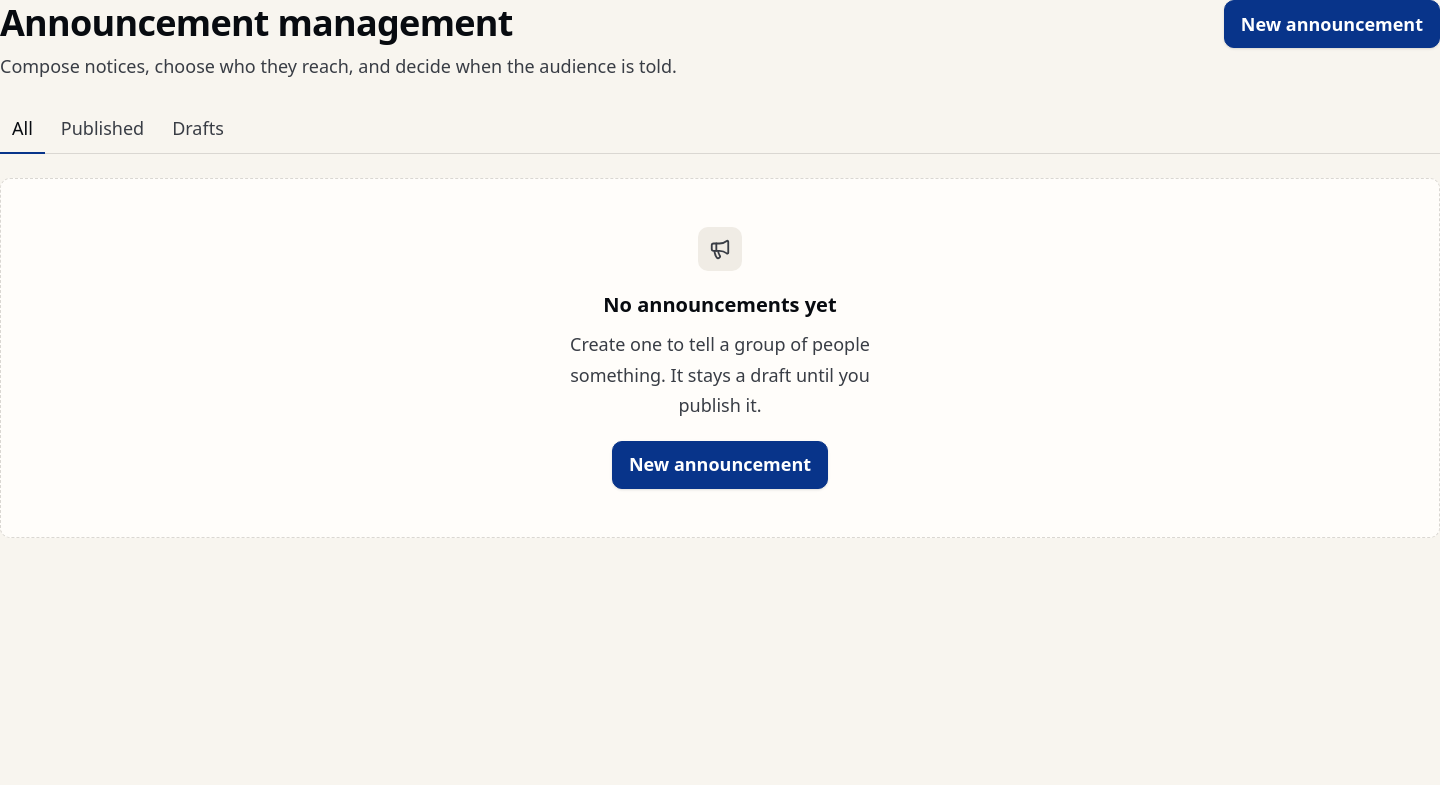
Test case: AnnouncementManagementPage — Publish from the form › keeps the form open with the reason when the save itself is refused
Click the button "New announcement" in the row of "Announcement management" at (1332, 24), box [1224, 0, 1439, 48]
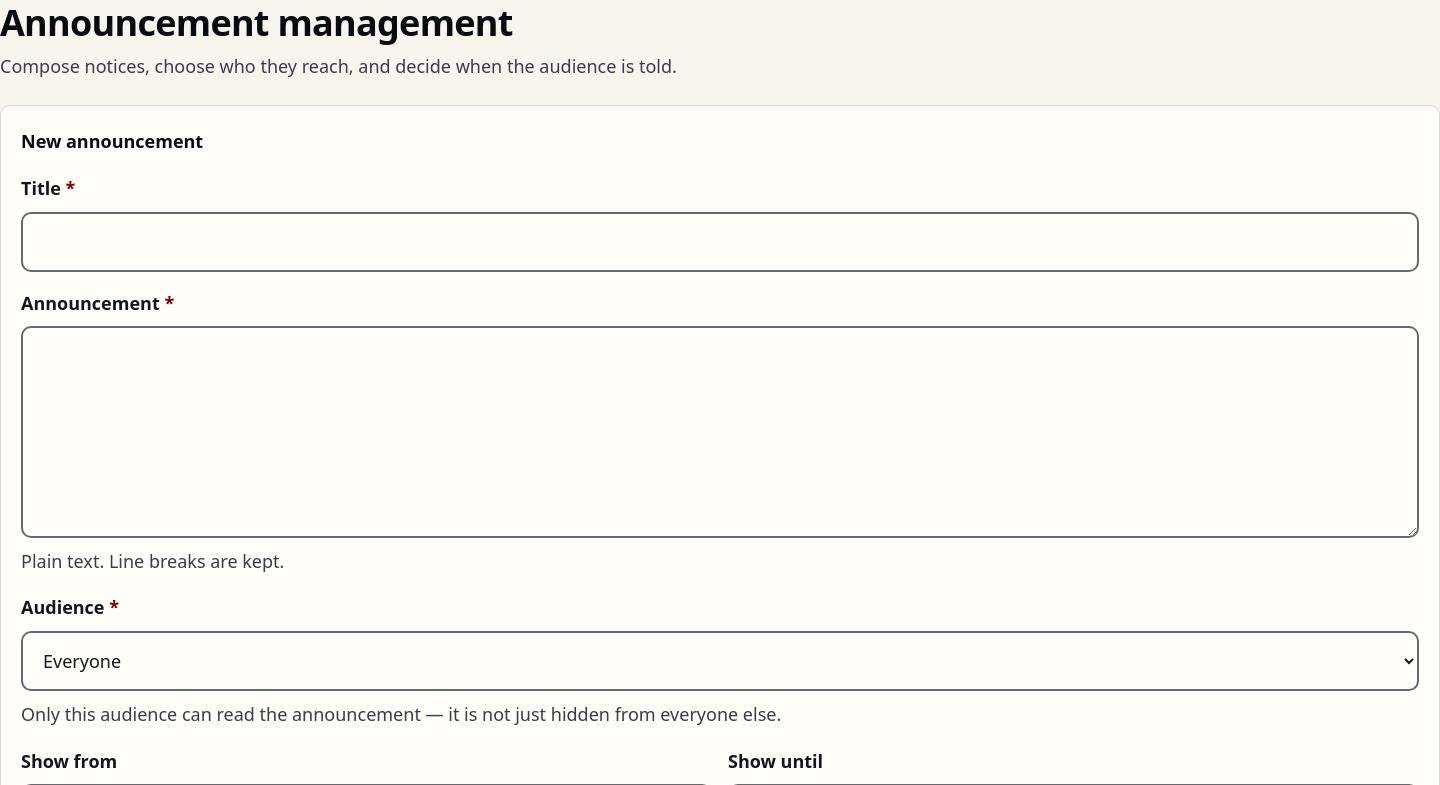
Type "Lab closed" into the field labelled "Title *" at (720, 242), box [21, 212, 1419, 272]
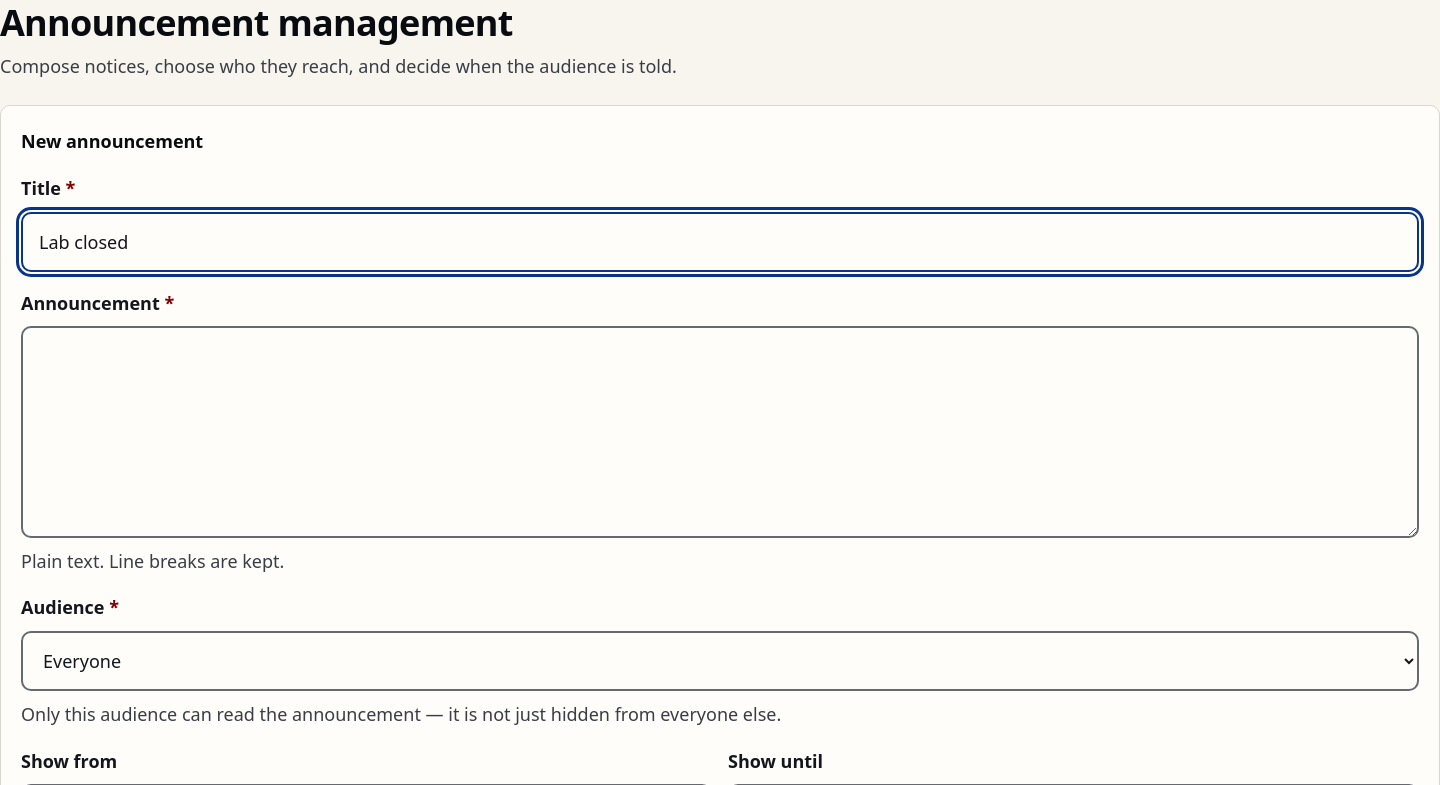
Type "Lab 2 is closed today." into the text box labelled "Announcement *" at (720, 432), box [21, 326, 1419, 538]
(page scrolled)
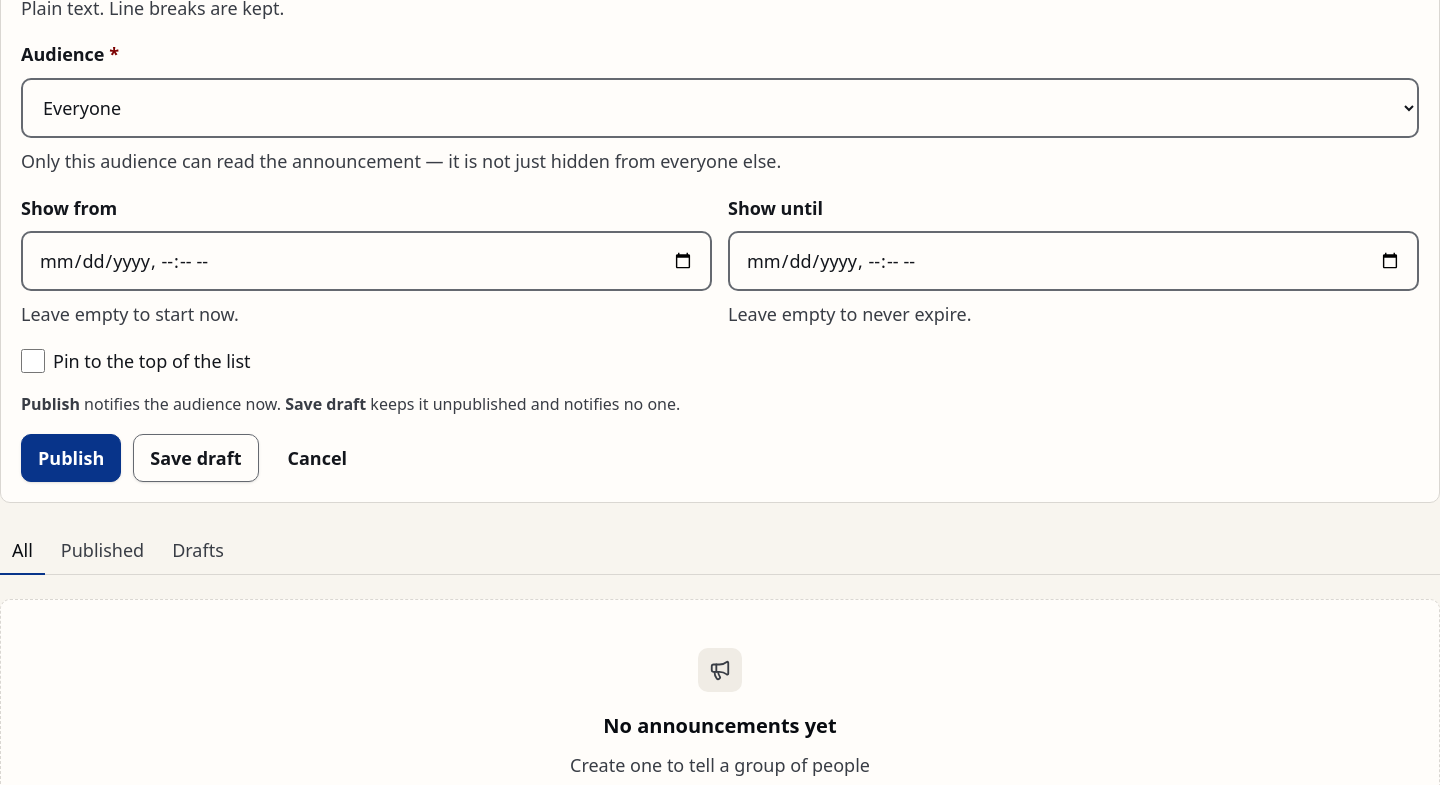
Click the button "Publish" at (71, 458), box [21, 434, 121, 482]
(page scrolled)
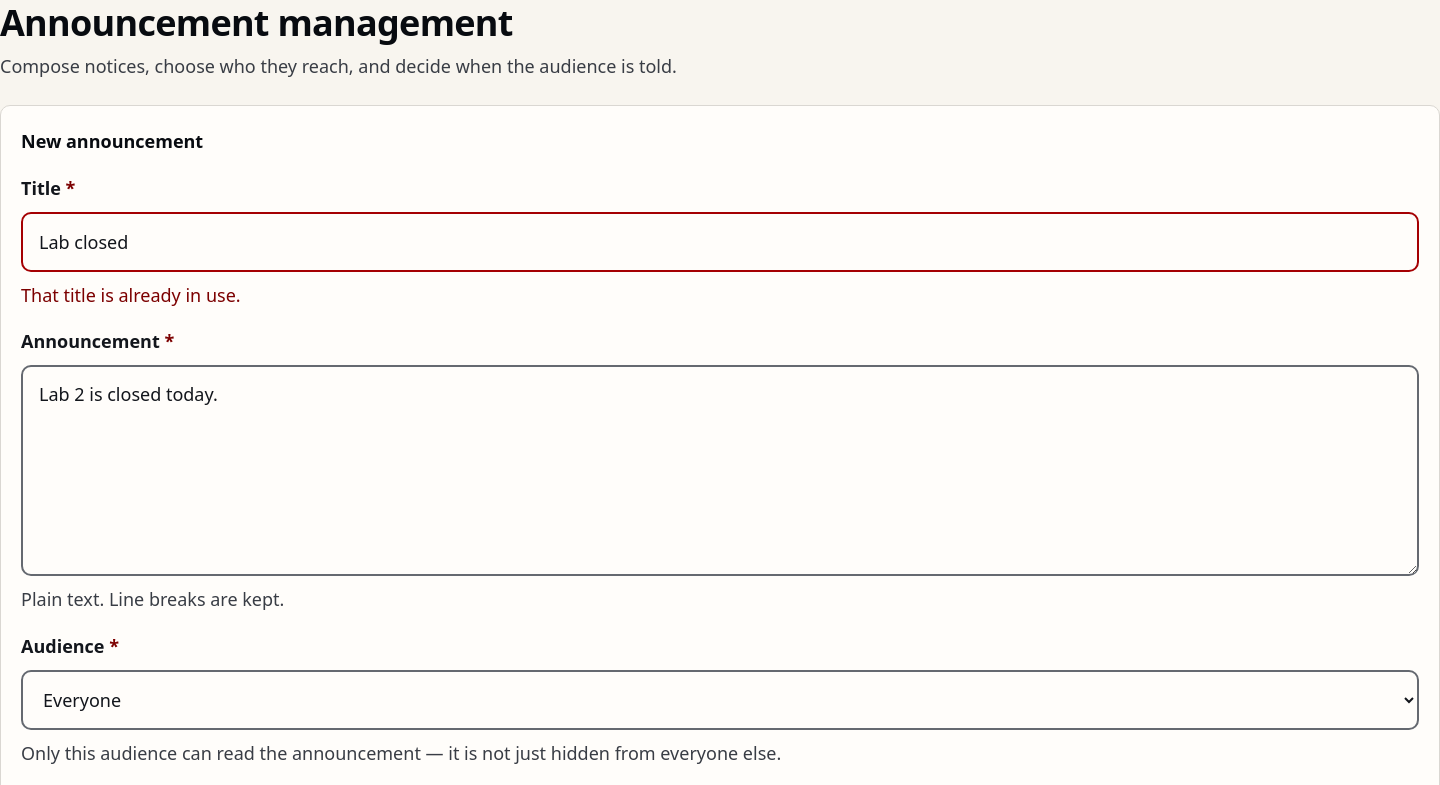
Expected: the text "That title is already in use." is shown, [21, 283, 241, 307]
